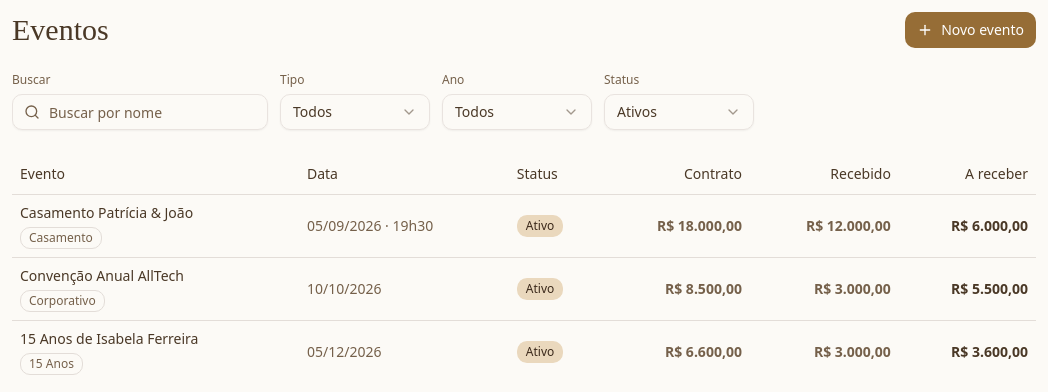
Test case: EventosPage › search is diacritics-insensitive: typing "joao" finds "Casamento Patrícia & João"
Expected: the text "Casamento Patrícia & João" is shown, [20,202,193,222]
Type "joao" into the field labelled "Buscar" at (140, 112), box [12,94,268,130]
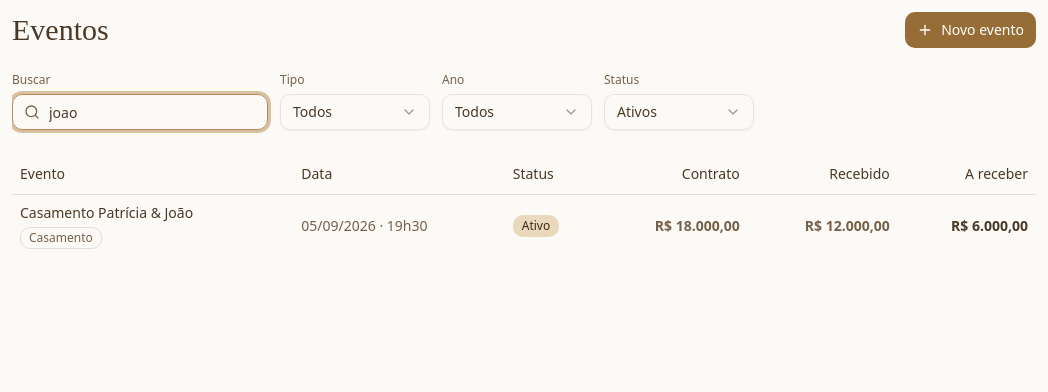
Expected: the text "Casamento Patrícia & João" is shown, [20,202,193,222]
Now the text "Convenção Anual AllTech" is gone
Now the text "15 Anos de Isabela Ferreira" is gone
